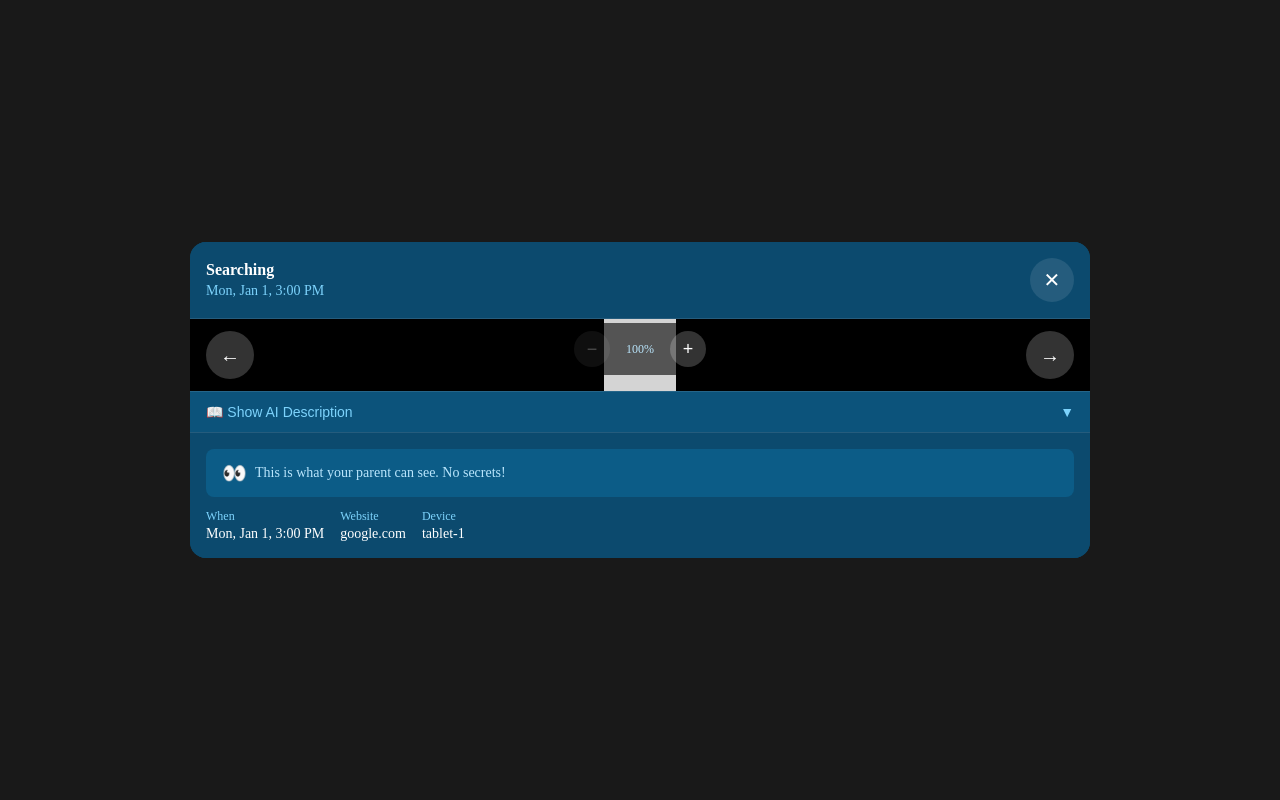
Test case: ChildScreenshotDetail › Accessibility Description (Story 28.3) › should expand description section when toggle is clicked (AC2)
Click the button with test id "description-toggle" at x=245, y=412, box [190,391,1090,432]
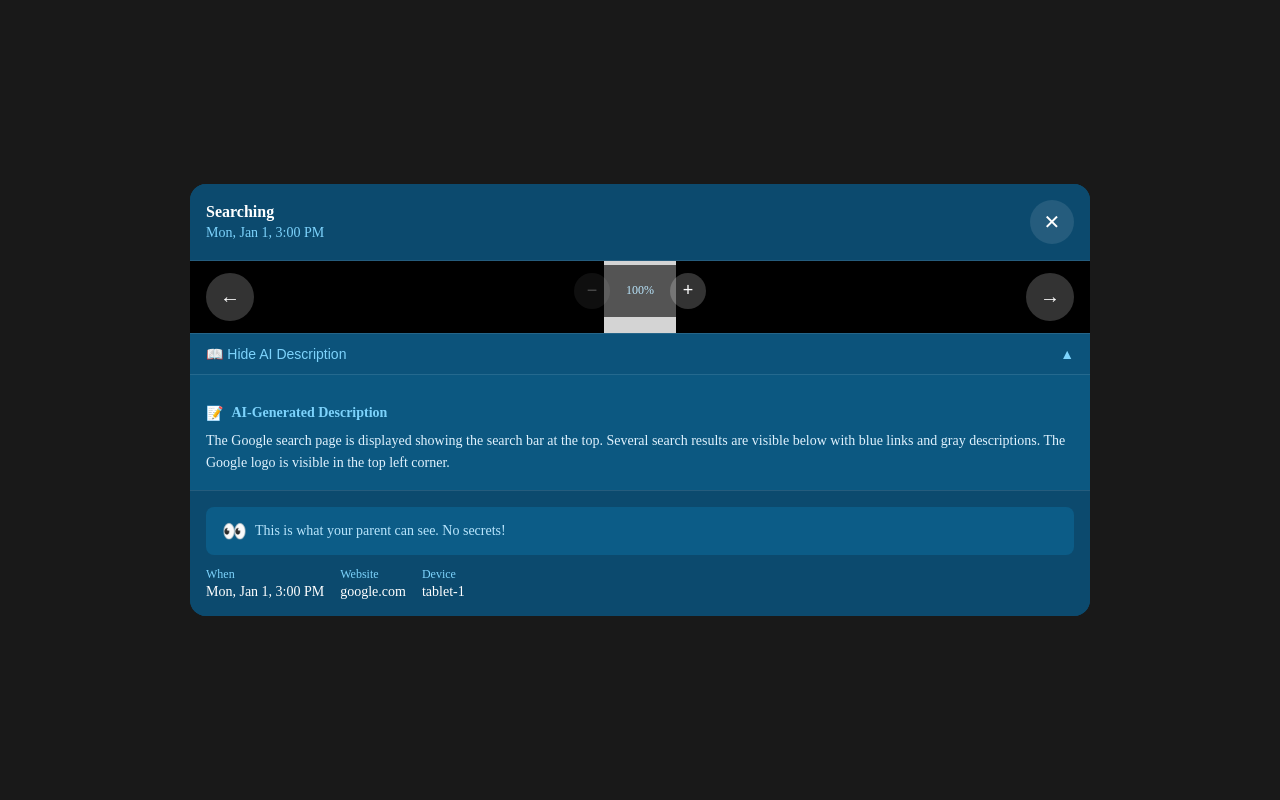
Expected: the element with test id "description-section" is shown, [190,374,1090,490]
Expected: the text with test id "description-text" shows "Google search page", [206,433,1065,470]
